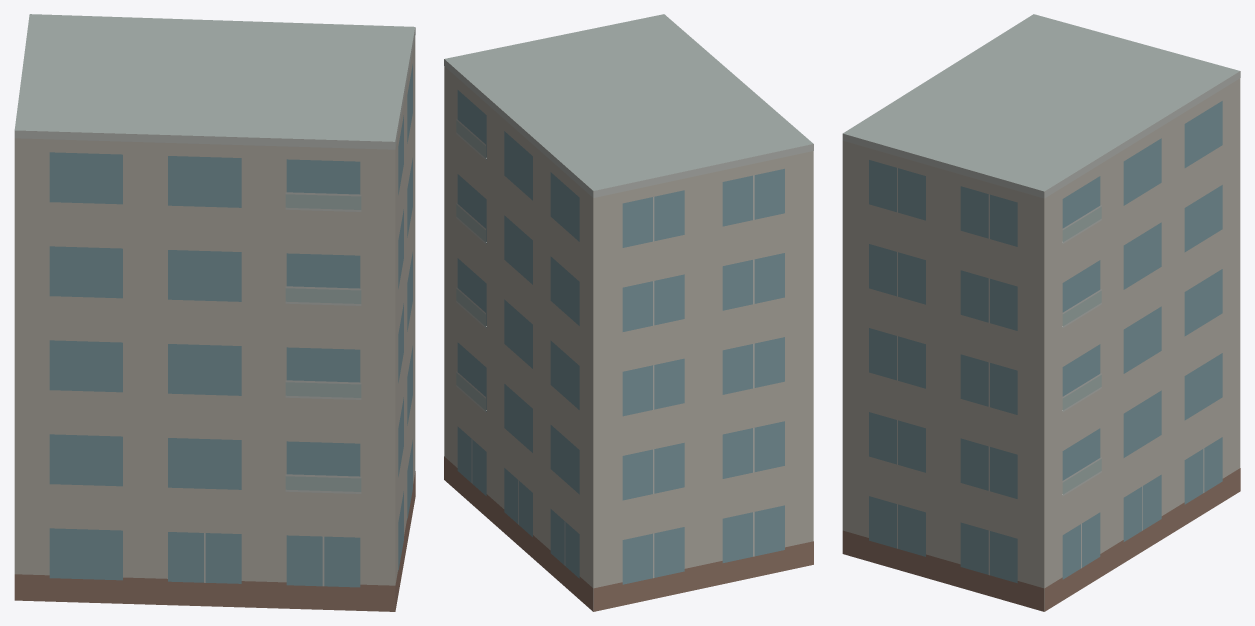
File: survey-upis-33019900.glb
The picture shows the model from 3 angles, left to right: view 1: azimuth 30°, elevation 25°; view 2: azimuth 150°, elevation 25°; view 3: azimuth 270°, elevation 25°; orthographic projection. The views are drawn at different scales.
Visible parts, largest first — view 1: survey-upis-33019900.tmp; view 2: survey-upis-33019900.tmp; view 3: survey-upis-33019900.tmp.
Boxes of the visible parts, x1=… form: survey-upis-33019900.tmp: x1=14, y1=14, x2=415, y2=611; survey-upis-33019900.tmp: x1=444, y1=14, x2=813, y2=611; survey-upis-33019900.tmp: x1=842, y1=14, x2=1240, y2=611.
Bounding box in the file's own units: 13.23 × 14.6 × 12.53.
